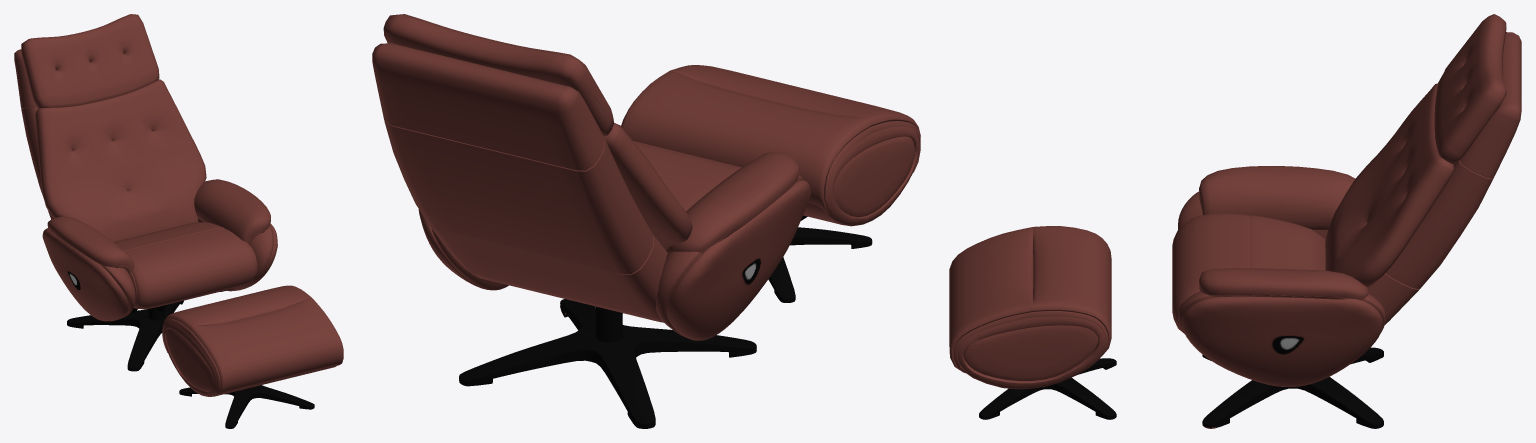
The model's file is chair_30_05.001.fbx.
The picture shows the model from 3 angles, left to right: view 1: azimuth 30°, elevation 25°; view 2: azimuth 150°, elevation 25°; view 3: azimuth 270°, elevation 25°; orthographic projection. The views are drawn at different scales.
Visible parts, largest first — view 1: chair_30_05.001; view 2: chair_30_05.001; view 3: chair_30_05.001.
Part boxes in pixels (box(x1,y1,x2,y2)): chair_30_05.001: box(14, 14, 343, 428); chair_30_05.001: box(372, 14, 920, 428); chair_30_05.001: box(949, 14, 1521, 428).
Size of the model in its own units: 84.7 by 112 by 169.
Materials: 1 (1 with a texture image).
